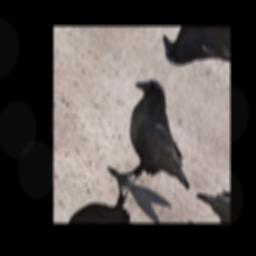Crow: (93, 67, 223, 221)
